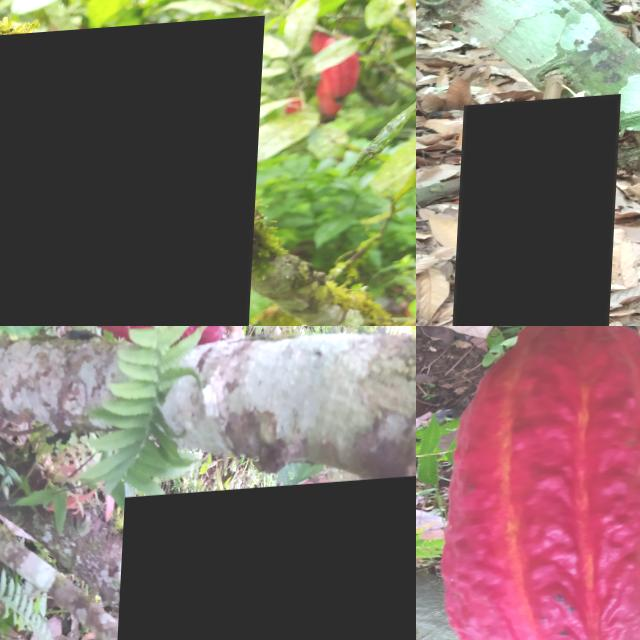Fitoftora: (0, 22, 266, 326), (456, 99, 623, 326)
Monilia: (18, 326, 242, 359)
Sana: (437, 326, 640, 640), (119, 479, 416, 640)
